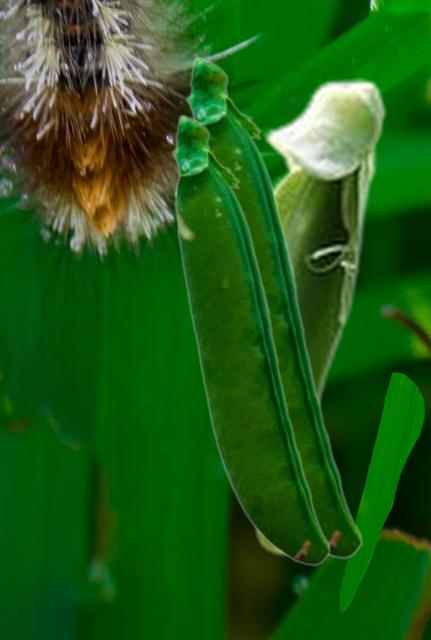pea: (185, 55, 361, 558), (171, 113, 329, 565), (245, 78, 387, 556)
